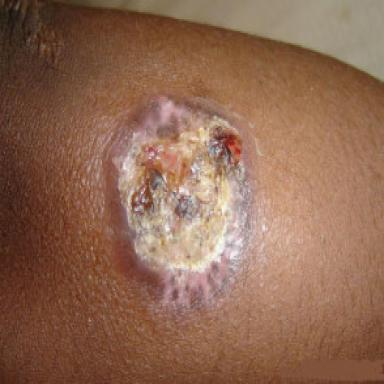Leishmanios: (107, 96, 254, 308)
